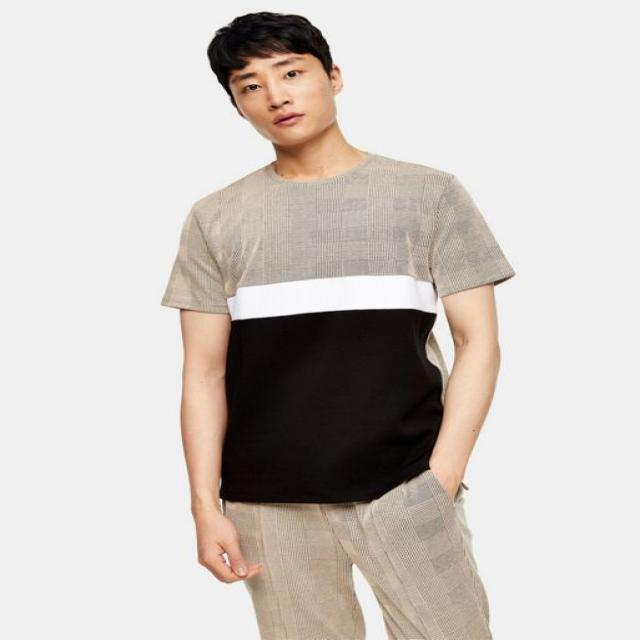tshirt: (158, 151, 516, 507)
